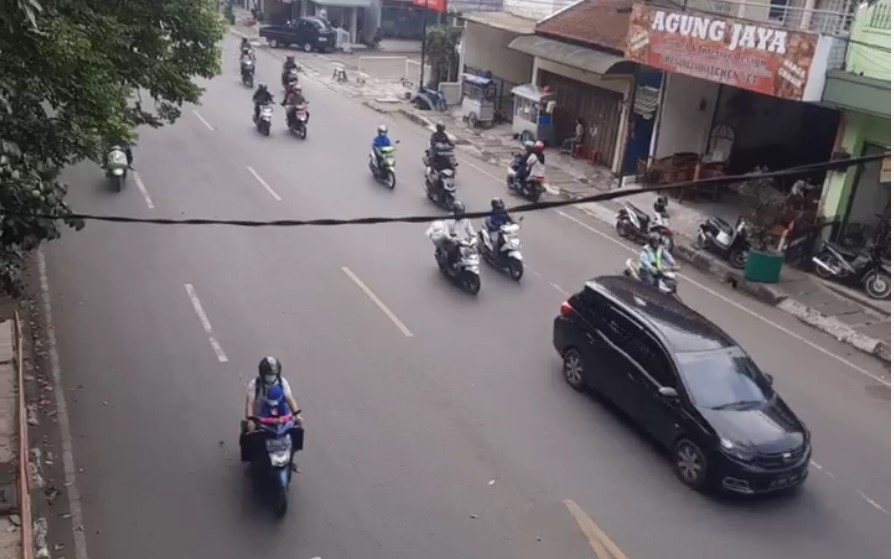mobil: (555, 277, 812, 502)
motor: (227, 355, 315, 525), (431, 203, 483, 296), (476, 198, 533, 275), (625, 234, 685, 302), (420, 146, 463, 208), (366, 124, 401, 188), (284, 87, 315, 139), (250, 83, 277, 135)
